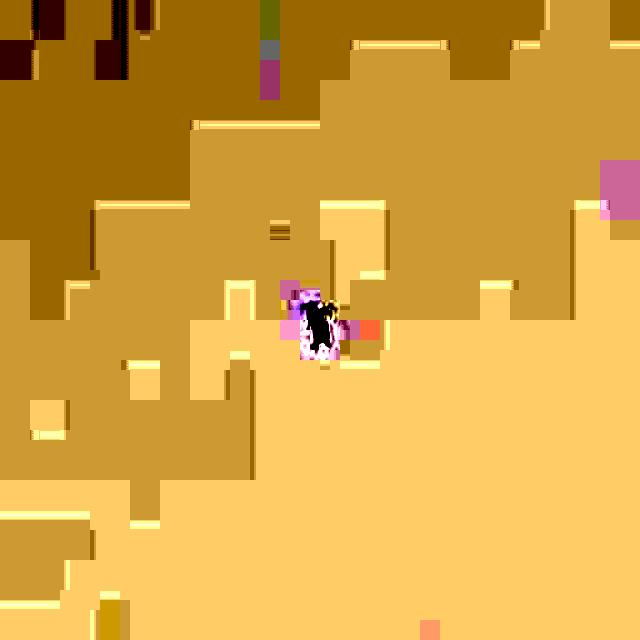drone: (295, 288, 348, 355)
